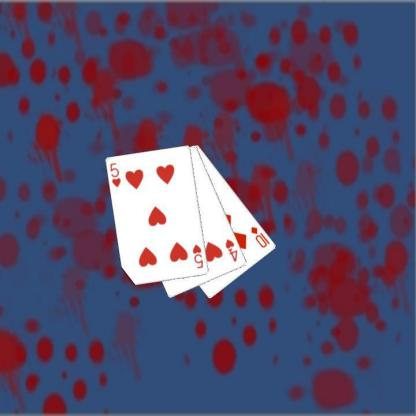10D: (248, 224, 271, 249)
4H: (223, 236, 239, 263)
5H: (190, 242, 205, 270), (107, 160, 122, 188)
